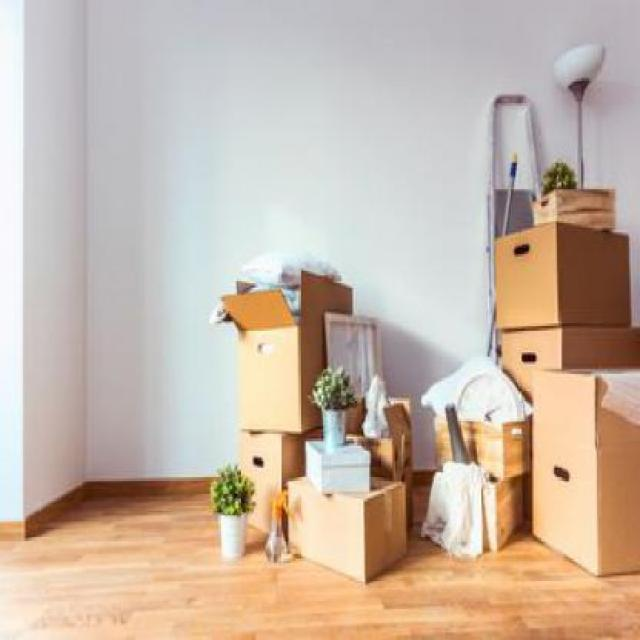box: (528, 365, 640, 588), (226, 272, 361, 432), (288, 466, 407, 586), (496, 235, 640, 333), (500, 328, 640, 408), (241, 432, 301, 546)
